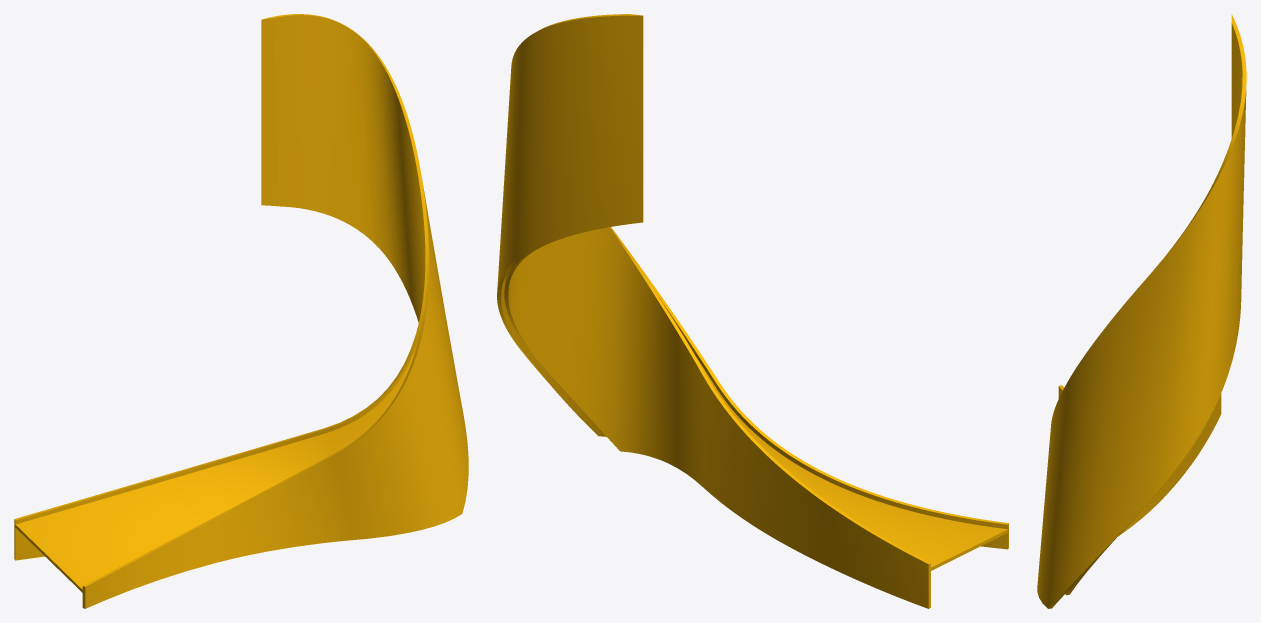
File: 09_skin2.glb
3 views of the same model, side by side, from view 1: azimuth 30°, elevation 25°; view 2: azimuth 150°, elevation 25°; view 3: azimuth 270°, elevation 25° (orthographic). The views are drawn at different scales.
Size of the model in its own units: 0.2052 by 0.2289 by 0.0804.
